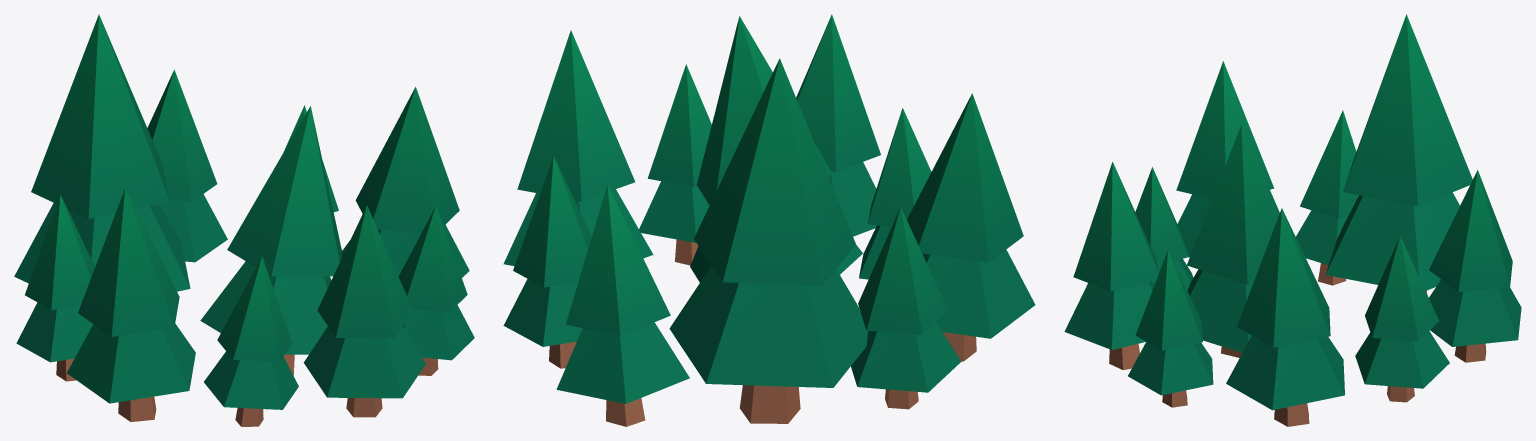
File: forest_a.glb
3 renders of one model, left to right at view 1: azimuth 30°, elevation 25°; view 2: azimuth 150°, elevation 25°; view 3: azimuth 270°, elevation 25°, orthographic. The views are drawn at different scales.
Visible parts, largest first — view 1: trees_A_medium; view 2: trees_A_medium; view 3: trees_A_medium.
Part boxes in pixels (bbox=[...]): trees_A_medium: bbox=[14, 14, 474, 426]; trees_A_medium: bbox=[503, 14, 1035, 426]; trees_A_medium: bbox=[1064, 14, 1521, 426].
Size of the model in its own units: 1.75 by 1.3 by 1.81.
Materials: 1 (1 with a texture image).
